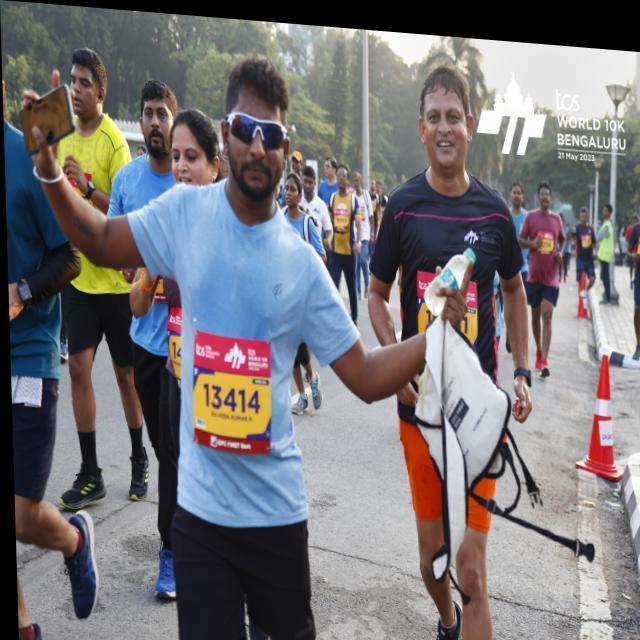dorsal: (190, 322, 280, 463)
